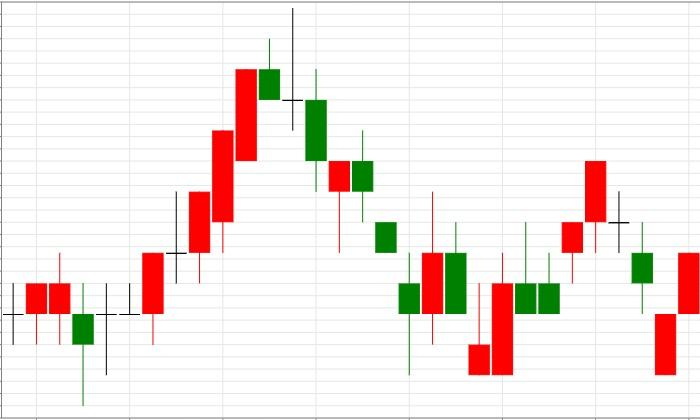hammer_rise: (259, 8, 350, 253)
